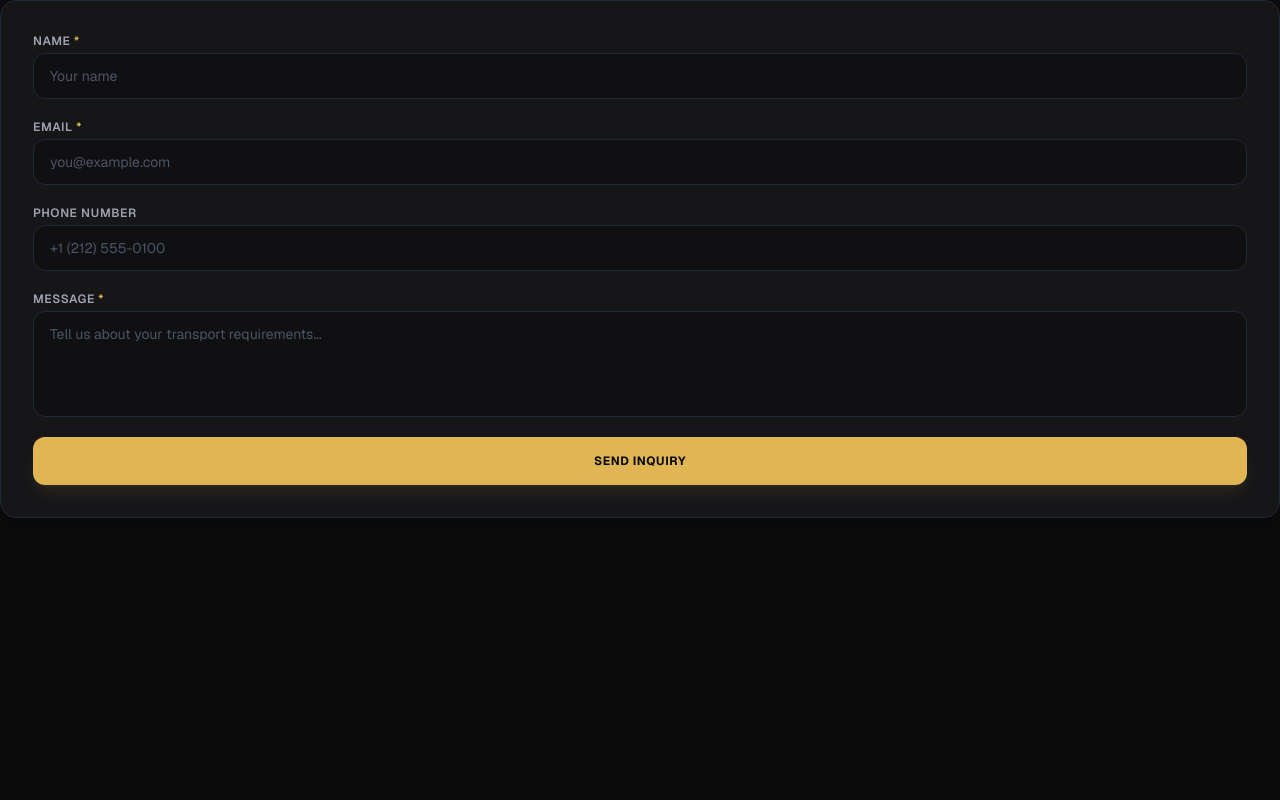
Test: ContactForm Component › validates required fields on client and surfaces validation errors
This screenshot has width=1280, height=800.
// Click submit with empty form fields
What coordinates should you click on to do the following:
click the button with test id "contact-submit"
I would click on:
 (640, 461)
Its box is [33,437,1247,485].
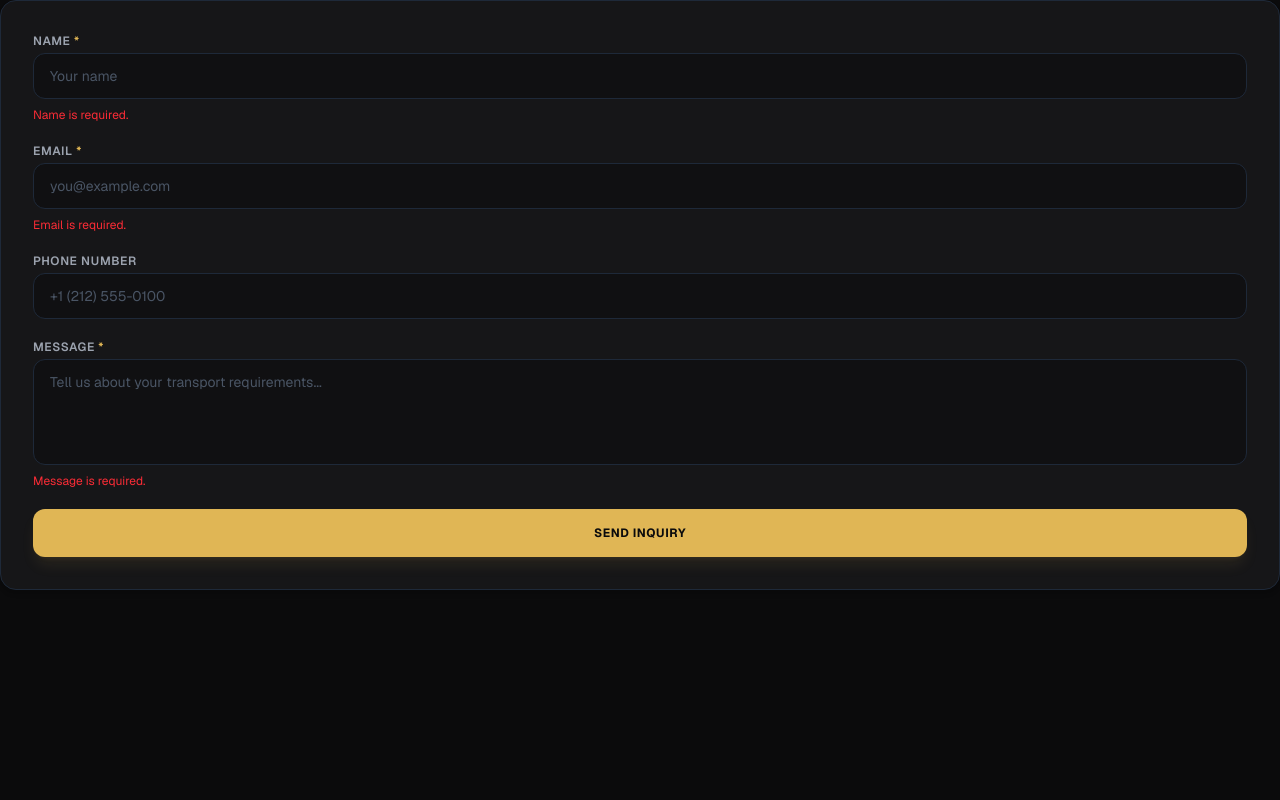
Expected: the message with test id "error-name" reads "Name is required.", [33,107,128,123]
Expected: the message with test id "error-email" reads "Email is required.", [33,217,126,233]
Expected: the message with test id "error-message" reads "Message is required.", [33,473,146,489]
